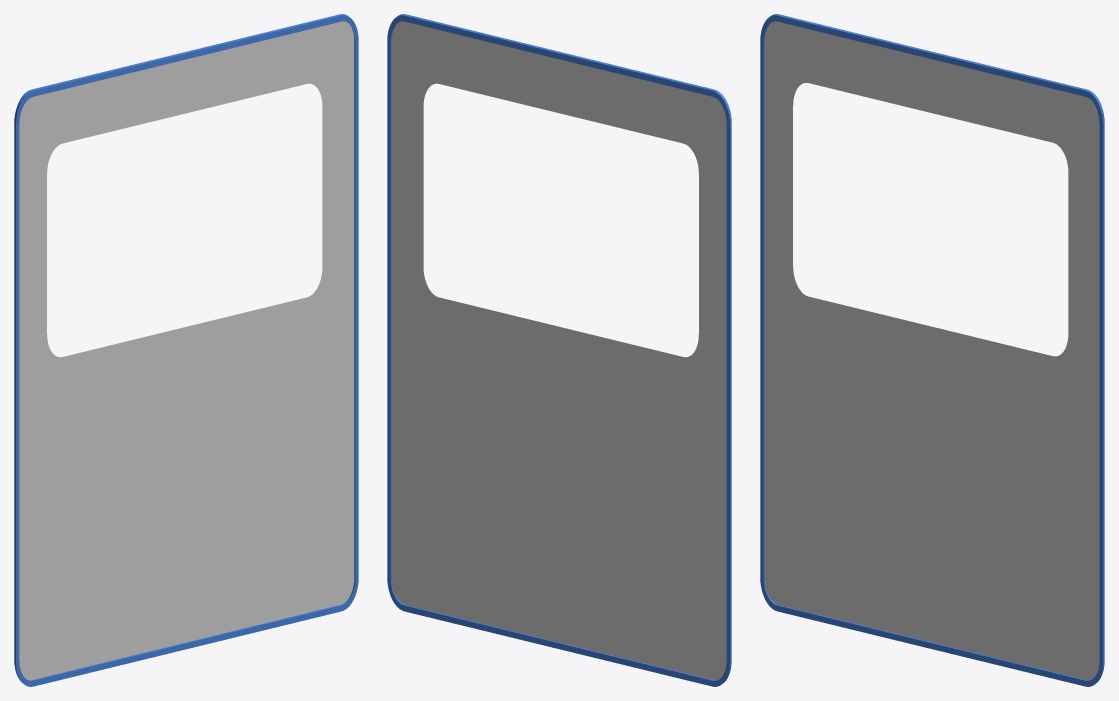
File: Card.fbx
3 views of the same model, side by side, from view 1: azimuth 30°, elevation 25°; view 2: azimuth 150°, elevation 25°; view 3: azimuth 330°, elevation 25° (orthographic).
Parts seen in each view (by area): view 1: CardFace, CardBorder; view 2: CardFace, CardBorder; view 3: CardFace, CardBorder.
Boxes of the visible parts, box(x1,y1,x2,y2) form: CardFace: box(19, 21, 354, 680); CardBorder: box(14, 14, 358, 686); CardFace: box(391, 21, 726, 680); CardBorder: box(387, 14, 731, 686); CardFace: box(764, 21, 1099, 680); CardBorder: box(760, 14, 1104, 686).
Bounding box in the file's own units: 242 × 402 × 2.2.
